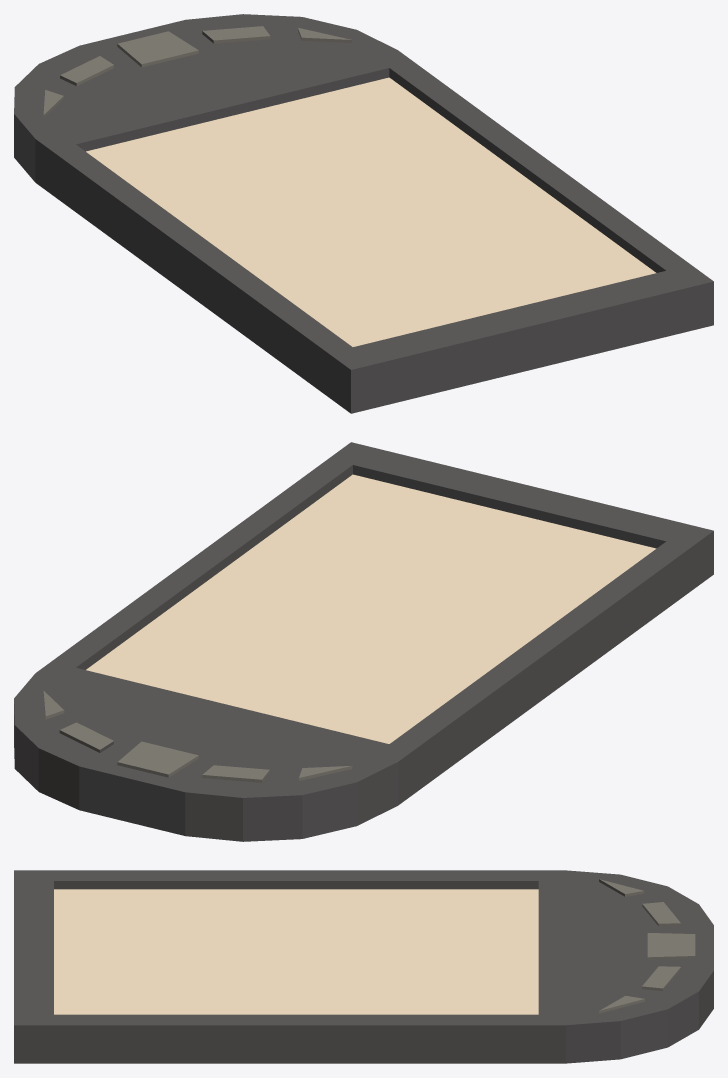
File: кпк.fbx
3 renders of one model, top to bottom at view 1: azimuth 30°, elevation 25°; view 2: azimuth 150°, elevation 25°; view 3: azimuth 270°, elevation 25°, orthographic. The views are drawn at different scales.
Parts seen in each view (by area): view 1: Cube; view 2: Cube; view 3: Cube.
Boxes of the visible parts, left/top/right/bottom form: Cube: left=14, top=14, right=713, bottom=413; Cube: left=14, top=442, right=713, bottom=841; Cube: left=14, top=870, right=713, bottom=1063.
Bounding box in the file's own units: 484 × 67.48 × 924.
